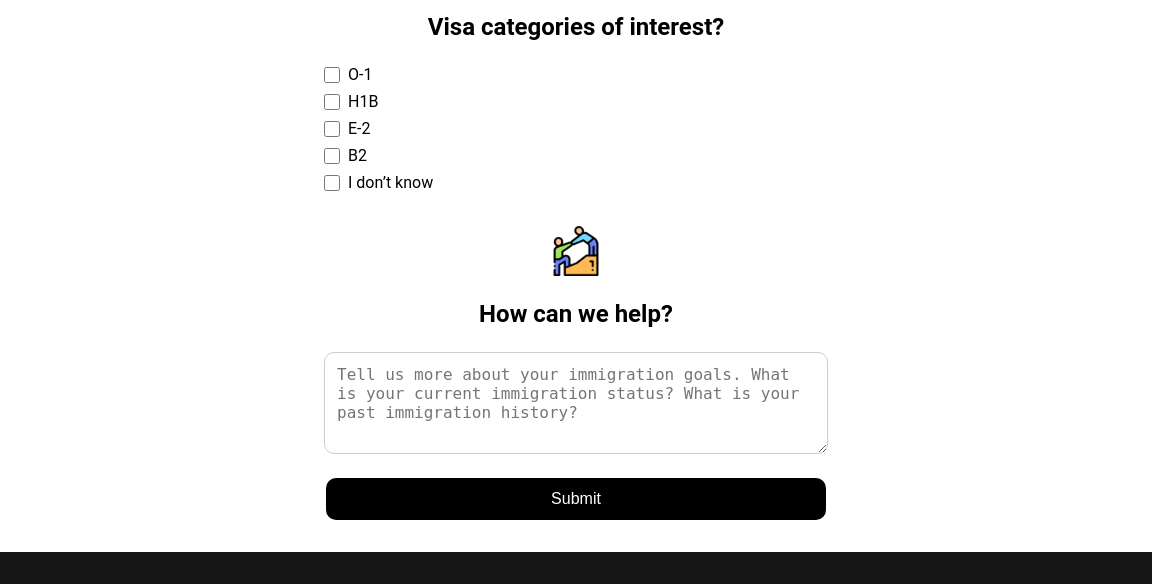
LeadForm › shows validation errors when required fields are missing
(page scrolled)
Note: Click the submit button without filling any fields.
Click the button "Submit" at (576, 499), box [326,478,826,520]
(page scrolled)
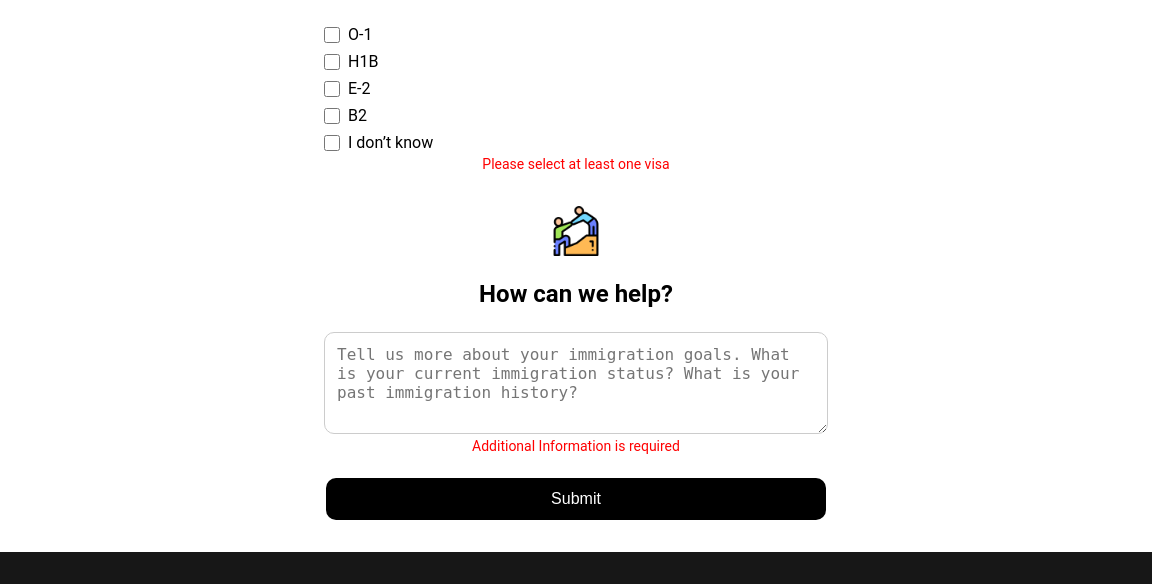
Now the text "Please select at least one visa" is shown, box [482,156,670,172]
Now the text "Additional Information is required" is shown, box [472,438,680,454]
